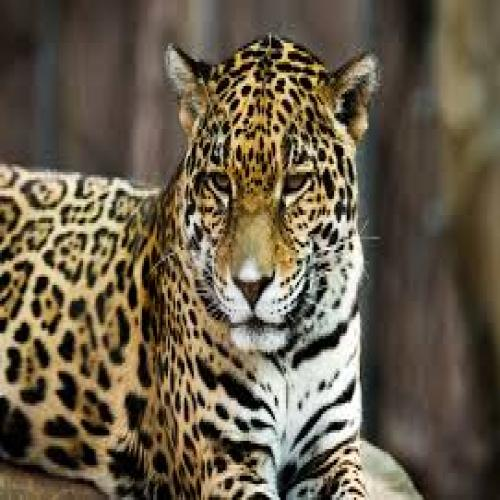jaguar_not-endangered: (0, 40, 360, 500)
